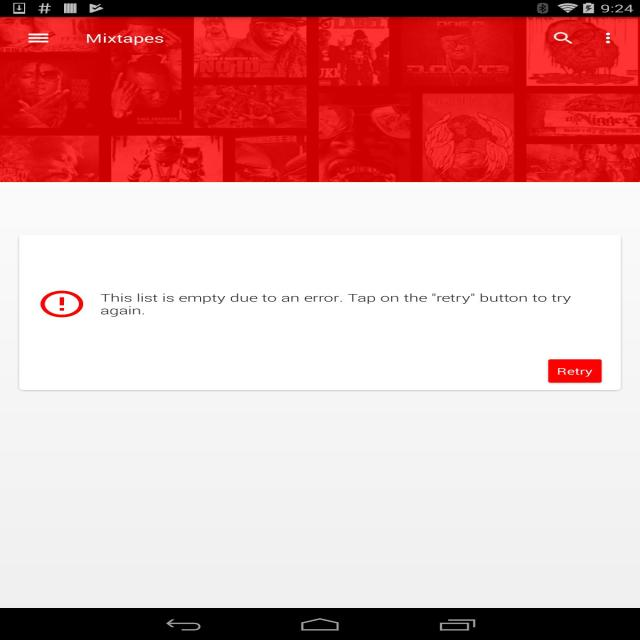button: (589, 27, 624, 51), (545, 27, 580, 49), (26, 30, 52, 47)
heading: (86, 30, 167, 47)
image: (0, 16, 640, 184)
text: (99, 290, 575, 319), (548, 360, 602, 382)
